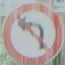Don't turn left: (10, 4, 53, 54)
